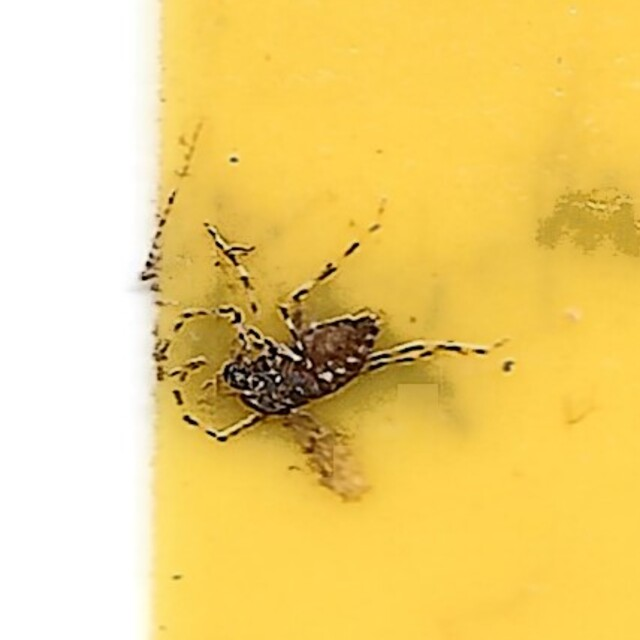Nematocera: (150, 144, 490, 496)
